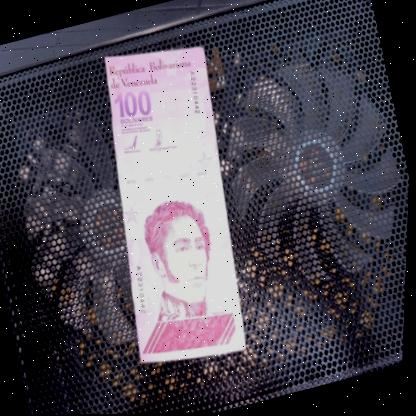one_hundred-front-vef: (67, 32, 279, 379)
